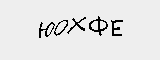Е: (111, 17, 126, 39)
О: (54, 17, 69, 38)
Ф: (88, 12, 106, 38)
Х: (67, 13, 91, 36)
Ю: (36, 19, 55, 41)
